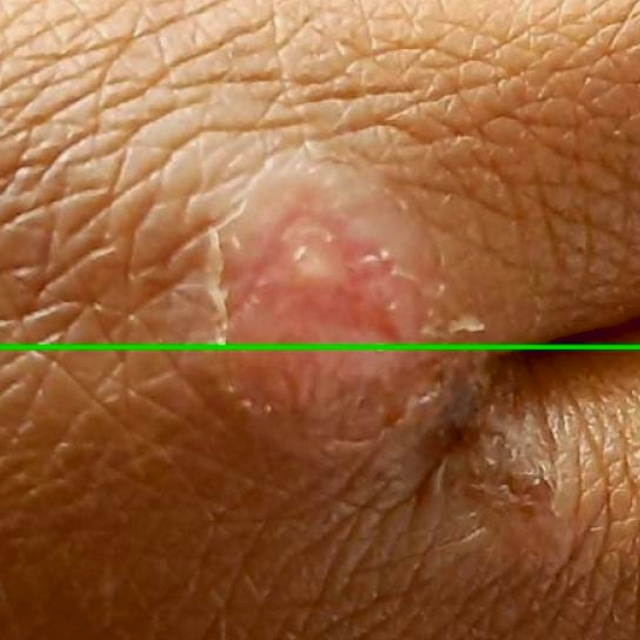Eczema: (0, 0, 639, 348)
